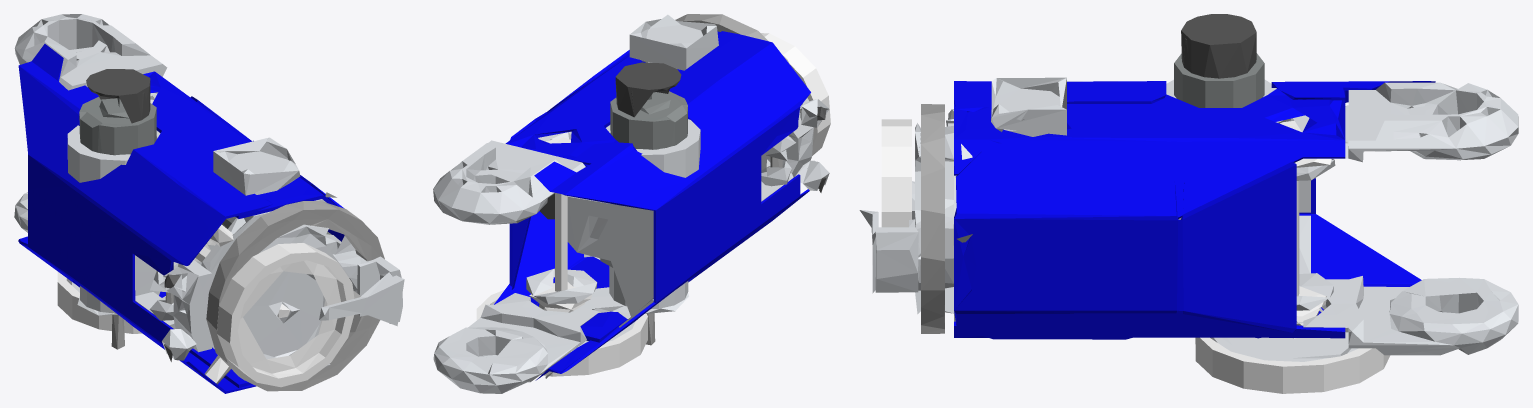
Rendered from LARM_LINK2_mesh.dae.
3 renders of one model, left to right at view 1: azimuth 30°, elevation 25°; view 2: azimuth 150°, elevation 25°; view 3: azimuth 270°, elevation 25°, orthographic. The views are drawn at different scales.
Parts seen in each view (by area): view 1: LARM_LINK2 (×22); view 2: LARM_LINK2 (×18); view 3: LARM_LINK2 (×18).
Boxes of the visible parts, x1,y1,x2,y2 form: LARM_LINK2 (×22): [14, 14, 404, 393]; LARM_LINK2 (×18): [433, 14, 830, 393]; LARM_LINK2 (×18): [875, 14, 1518, 393].
Bounding box in the file's own units: 0.0911 × 0.1121 × 0.2189.
